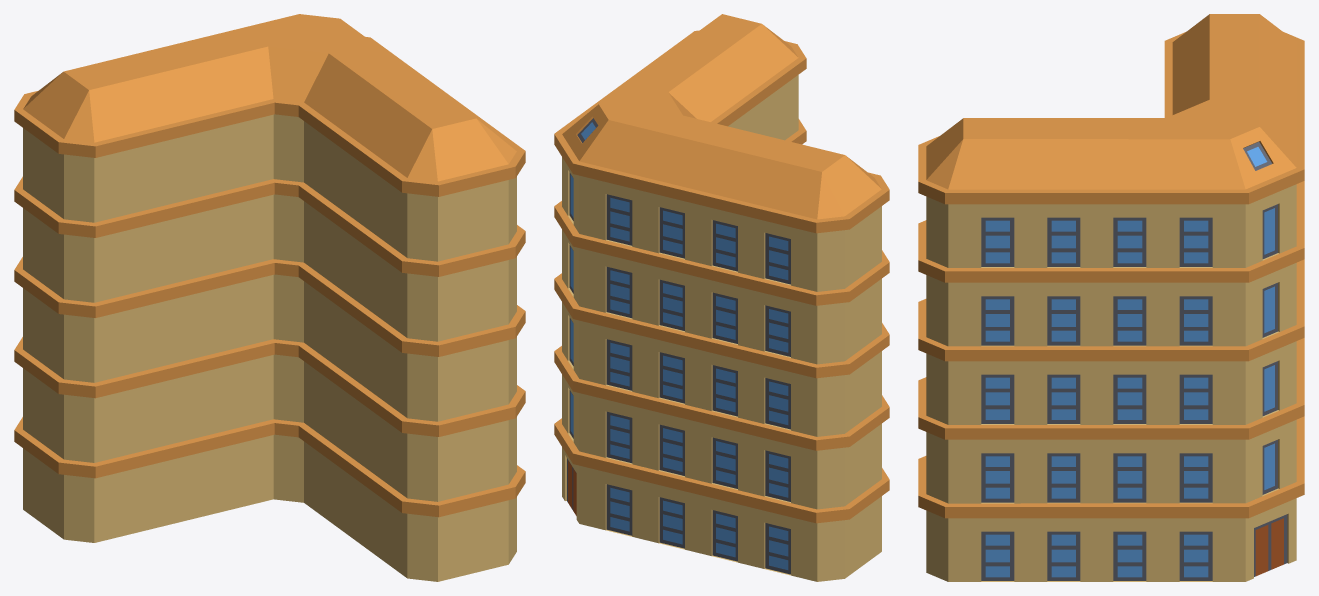
3 renders of one model, left to right at view 1: azimuth 30°, elevation 25°; view 2: azimuth 150°, elevation 25°; view 3: azimuth 270°, elevation 25°, orthographic. The views are drawn at different scales.
Visible parts, largest first — view 1: Predio 6.002; view 2: Predio 6.002; view 3: Predio 6.002.
Part boxes in pixels (<box>): Predio 6.002: <box>14,14,525,581</box>; Predio 6.002: <box>554,14,889,581</box>; Predio 6.002: <box>918,14,1304,581</box>.
Size of the model in its own units: 8946 by 10915 by 8946.
